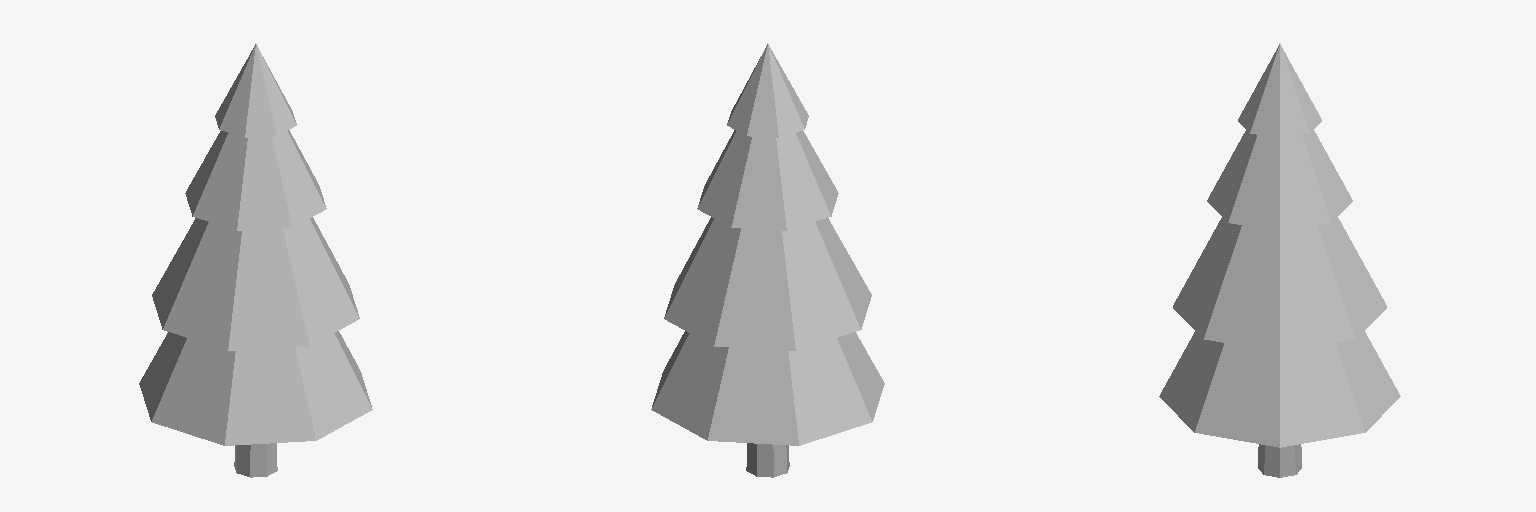
File: tree.obj
3 renders of one model, left to right at view 1: azimuth 30°, elevation 25°; view 2: azimuth 150°, elevation 25°; view 3: azimuth 270°, elevation 25°, orthographic.
Size of the model in its own units: 10.79 by 20.91 by 10.79.